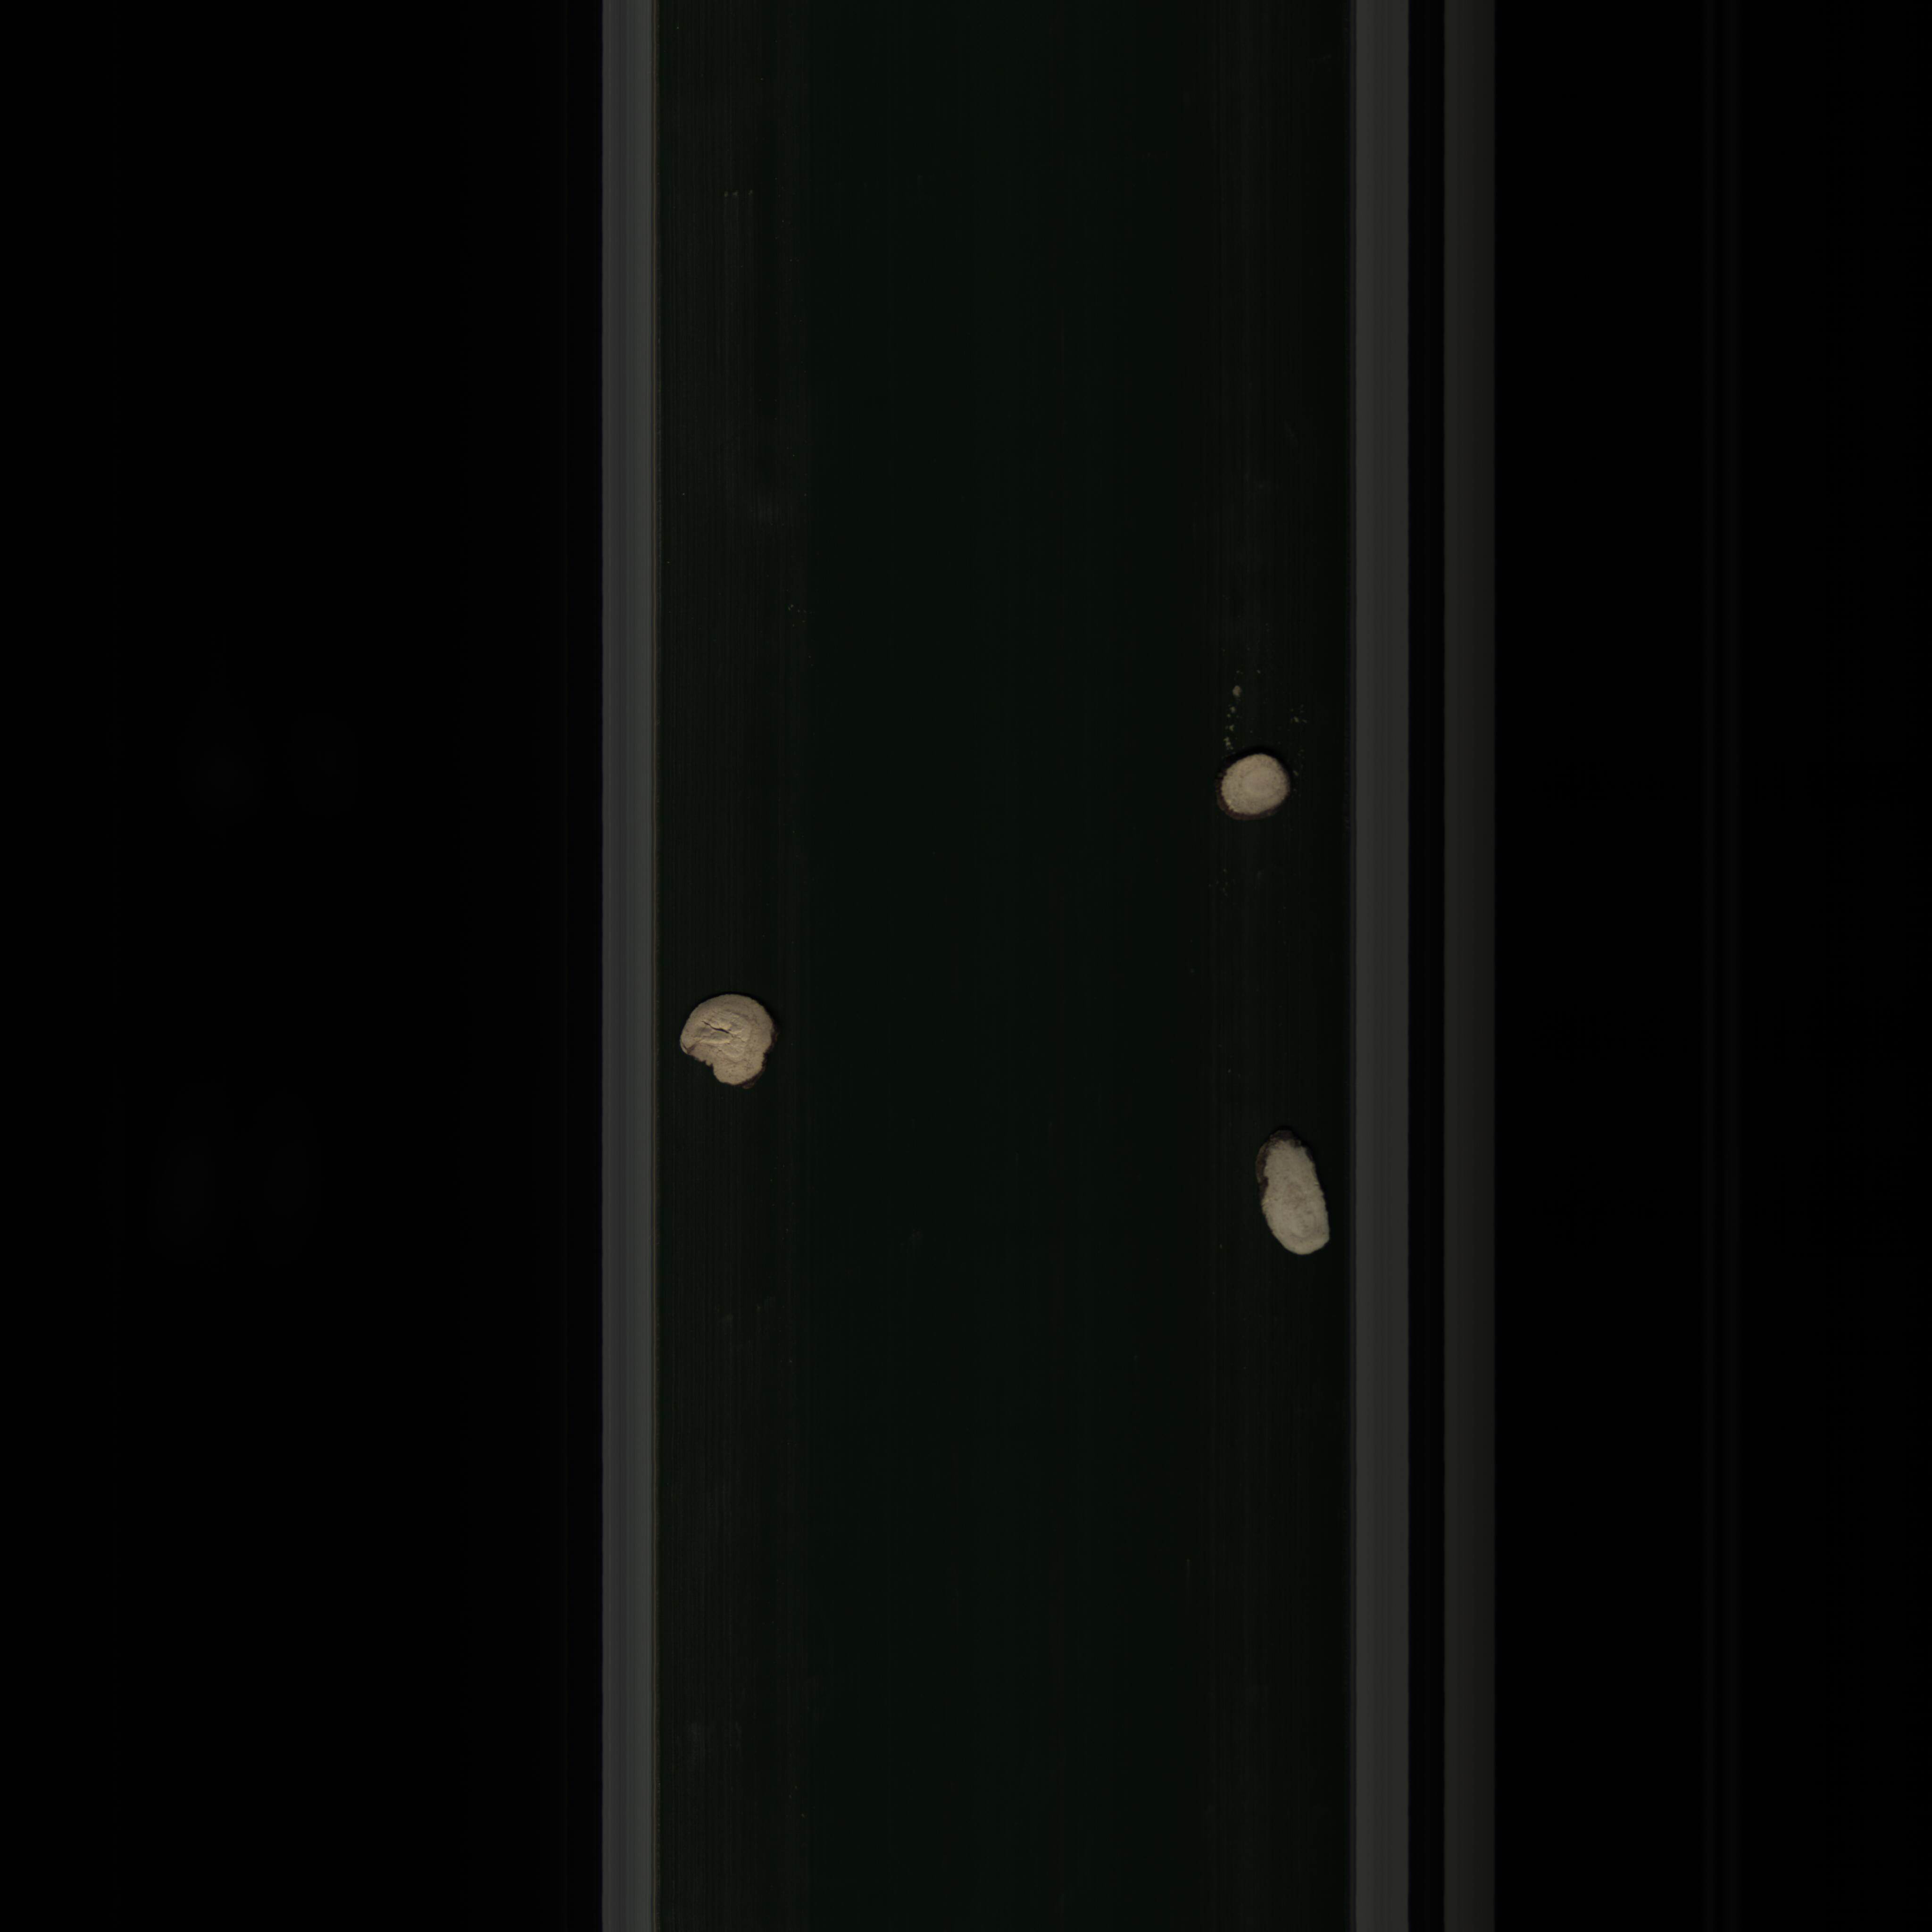debris: (1247, 1122, 1339, 1267)
